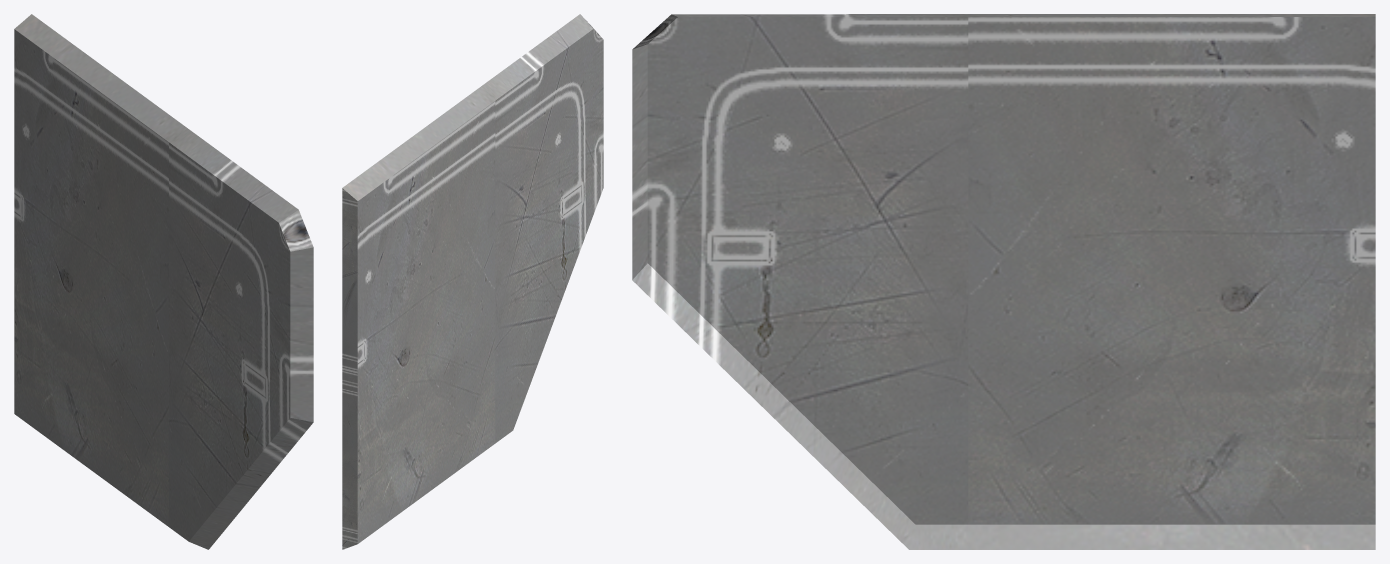
The model's file is SM_CornerTop3.fbx.
3 views of the same model, side by side, from view 1: azimuth 30°, elevation 25°; view 2: azimuth 150°, elevation 25°; view 3: azimuth 270°, elevation 25° (orthographic). The views are drawn at different scales.
Parts seen in each view (by area): view 1: SM_CornerTop3_LOD0; view 2: SM_CornerTop3_LOD0; view 3: SM_CornerTop3_LOD0.
Part boxes in pixels (x1=…): SM_CornerTop3_LOD0: x1=14, y1=14, x2=313, y2=549; SM_CornerTop3_LOD0: x1=342, y1=14, x2=603, y2=549; SM_CornerTop3_LOD0: x1=632, y1=14, x2=1375, y2=549.
Bounding box in the file's own units: 5 × 140 × 111.
1 material, 1 textured.
